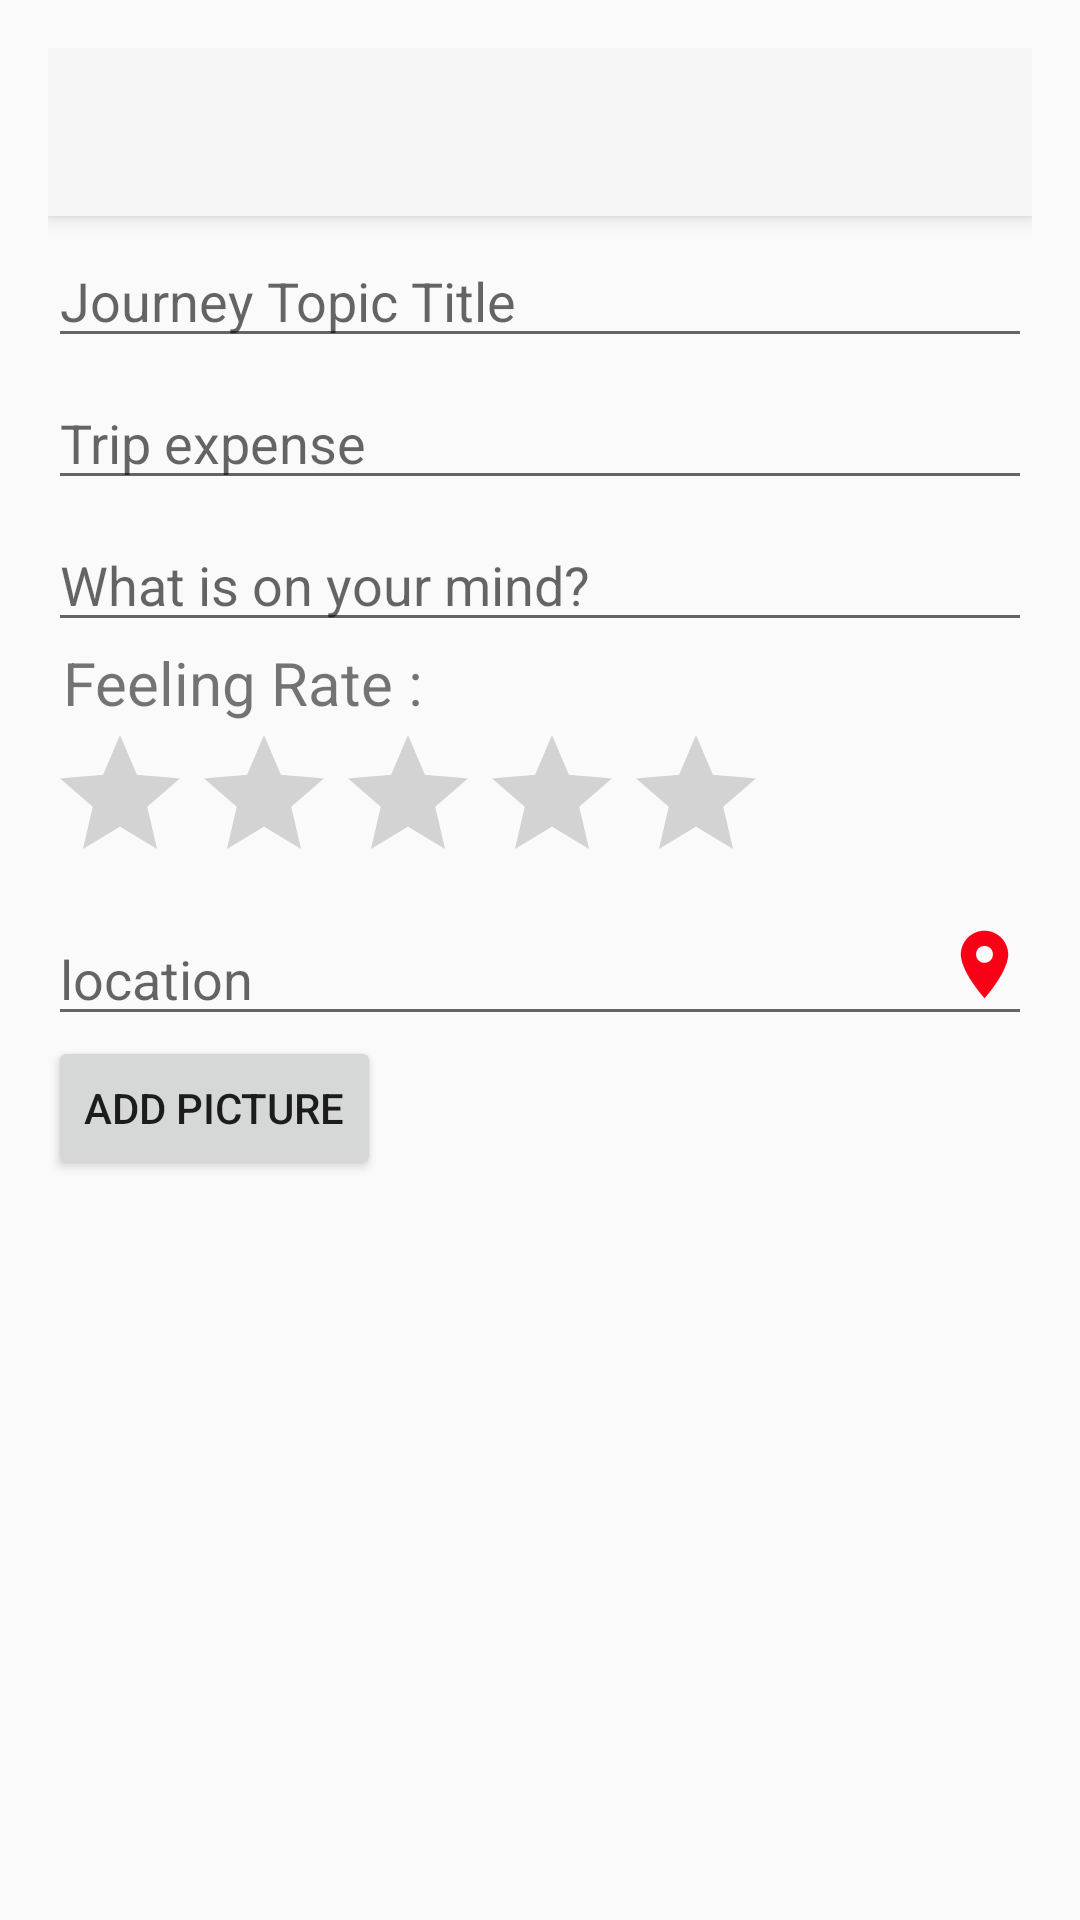

Locate icon controls on the screen. Image size 1080px x 1920px, boxes as (x1, y1, x2, y2).
maps place: (960, 930, 1009, 998)
